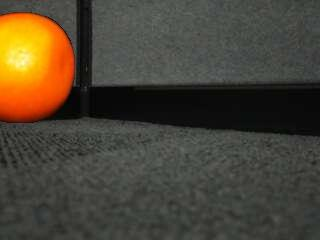Orange: (0, 12, 76, 124)
